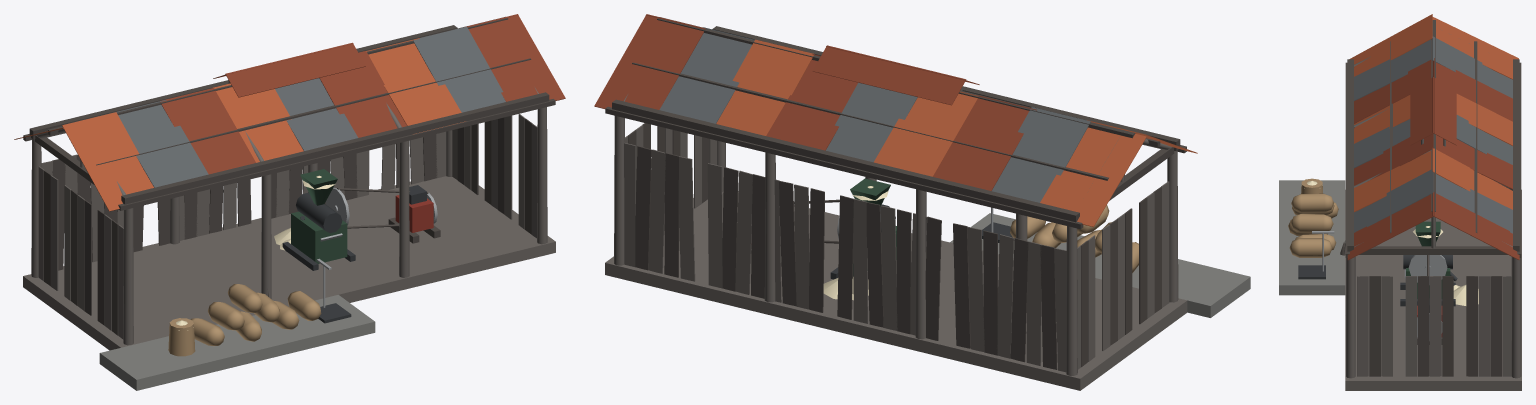
Rendered from rice-mill.glb.
The picture shows the model from 3 angles, left to right: view 1: azimuth 30°, elevation 25°; view 2: azimuth 150°, elevation 25°; view 3: azimuth 270°, elevation 25°; orthographic projection. The views are drawn at different scales.
Visible parts, largest first — view 1: Mesh_ShedFloor, Mesh_LoadingPlatform, Mesh_RoofSheetR_8, Mesh_RoofSheetR_0, Mesh_RoofSheetR_1, Mesh_BeamFront, Mesh_RoofSheetR_6, Mesh_RoofSheetR_7, Mesh_RoofSheetR_2, Mesh_RoofSheetR_3, Mesh_RoofSheetR_5, Mesh_VentRoofR (+61 smaller); view 2: Mesh_ShedFloor, Mesh_RoofSheetL_0, Mesh_BeamBack, Mesh_RoofSheetL_8, Mesh_RoofSheetL_6, Mesh_RoofSheetL_2, Mesh_RoofSheetL_7, Mesh_RoofSheetL_5, Mesh_RoofSheetL_1, Mesh_VentRoofL, Mesh_RoofSheetL_3, Mesh_RoofSheetL_4 (+51 smaller); view 3: Mesh_ShedFloor, Mesh_LoadingPlatform, Mesh_RoofSheetL_0, Mesh_RoofSheetR_0, Mesh_RoofSheetR_1, Mesh_RoofSheetR_8, Mesh_RoofSheetR_7, Mesh_RoofSheetL_2, Mesh_RoofSheetL_8, Mesh_RoofSheetR_6, Mesh_RoofSheetR_2, Mesh_RoofSheetL_7 (+40 smaller).
Part boxes in pixels (x1,y1,x2,y2): Mesh_ShedFloor: [23, 176, 555, 350]; Mesh_LoadingPlatform: [99, 295, 375, 390]; Mesh_RoofSheetR_8: [62, 112, 153, 211]; Mesh_RoofSheetR_0: [464, 14, 565, 101]; Mesh_RoofSheetR_1: [413, 26, 505, 112]; Mesh_BeamFront: [121, 92, 549, 204]; Mesh_RoofSheetR_6: [160, 88, 255, 174]; Mesh_RoofSheetR_7: [118, 105, 208, 187]; Mesh_RoofSheetR_2: [368, 43, 465, 134]; Mesh_RoofSheetR_3: [319, 51, 406, 137]; Mesh_RoofSheetR_5: [213, 83, 303, 162]; Mesh_VentRoofR: [225, 42, 365, 97]; Mesh_ShedFloor: [605, 191, 1187, 390]; Mesh_RoofSheetL_0: [594, 14, 705, 109]; Mesh_BeamBack: [612, 99, 1079, 222]; Mesh_RoofSheetL_8: [1040, 127, 1146, 226]; Mesh_RoofSheetL_6: [933, 95, 1030, 190]; Mesh_RoofSheetL_2: [716, 39, 814, 135]; Mesh_RoofSheetL_7: [992, 107, 1090, 202]; Mesh_RoofSheetL_5: [874, 93, 977, 176]; Mesh_RoofSheetL_1: [659, 33, 751, 123]; Mesh_VentRoofL: [812, 45, 966, 105]; Mesh_RoofSheetL_3: [766, 60, 857, 150]; Mesh_RoofSheetL_4: [826, 82, 917, 162]; Mesh_ShedFloor: [1345, 189, 1521, 390]; Mesh_LoadingPlatform: [1279, 180, 1345, 295]; Mesh_RoofSheetL_0: [1432, 192, 1519, 259]; Mesh_RoofSheetR_0: [1347, 192, 1434, 260]; Mesh_RoofSheetR_1: [1354, 169, 1433, 232]; Mesh_RoofSheetR_8: [1349, 14, 1432, 76]; Mesh_RoofSheetR_7: [1354, 39, 1431, 100]; Mesh_RoofSheetL_2: [1432, 147, 1512, 209]; Mesh_RoofSheetL_8: [1431, 17, 1518, 79]; Mesh_RoofSheetR_6: [1354, 58, 1434, 123]; Mesh_RoofSheetR_2: [1354, 151, 1431, 212]; Mesh_RoofSheetL_7: [1432, 36, 1512, 98].
Size of the model in its own units: 8.81 by 3.81 by 4.4.
